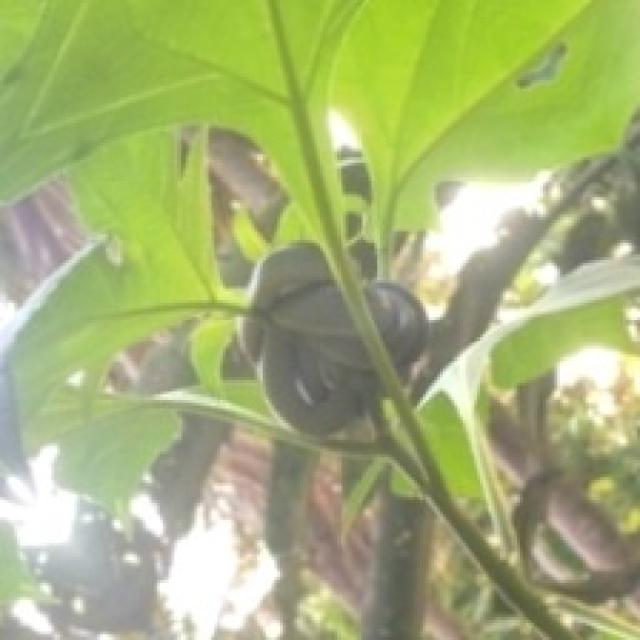red-tailed green ratsnake: (241, 245, 380, 434), (368, 282, 429, 371)
